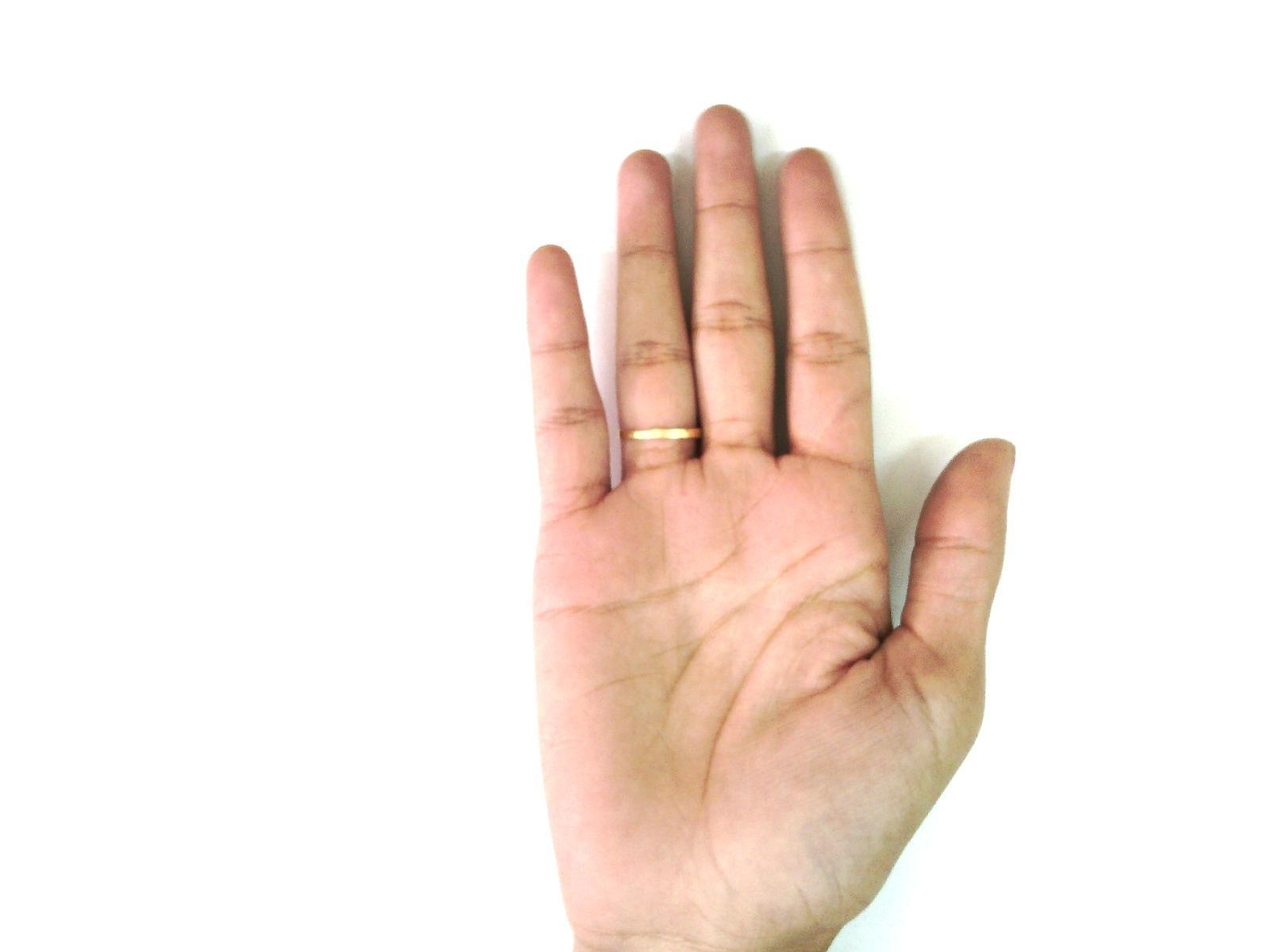open_palm: (520, 104, 1019, 951)
